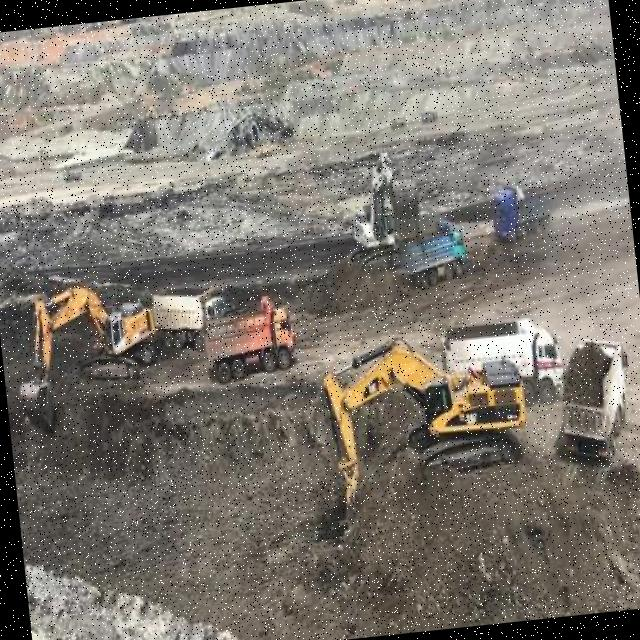Dump Truck: (552, 336, 639, 464), (444, 320, 561, 398), (204, 311, 304, 378), (391, 211, 466, 287), (153, 281, 225, 346), (490, 182, 561, 244)
Excavator: (316, 319, 538, 538), (5, 266, 166, 431), (334, 143, 425, 279)
